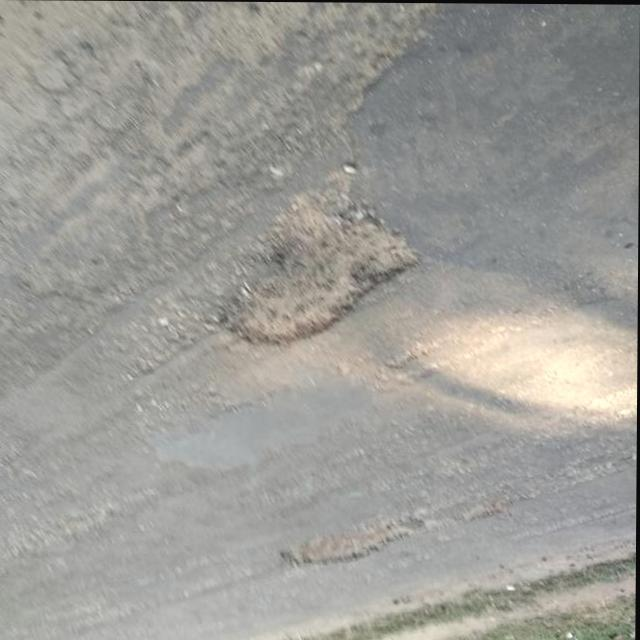Potholes: (244, 178, 399, 340)
